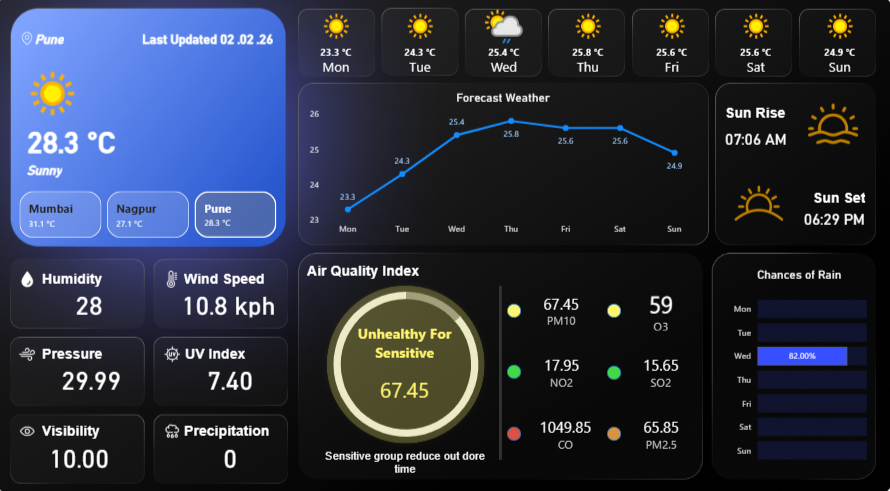

Layout of this report page (visuals, bound fields, positions):
{"tool":"powerbi","page":{"name":"Page 1","canvas":[1280,720],"ordinal":0},"visuals":[{"type":"donutChart","title":"O3","fields":{"Y":["Sum(current.current.air_quality.pm10)","_Measures.left_pm10"]},"box":[444.4,398.9,283.3,256.7],"z":0},{"type":"advancedSlicerVisual","fields":{"Values":["Location.location.name"]},"box":[34.5,275.7,376.6,76.3],"z":1000},{"type":"shape","box":[49.2,169.8,152.6,81.2],"z":2000},{"type":"shape","box":[49.5,228.4,224,46.5],"z":3000},{"type":"shape","box":[61.1,42.2,129.5,46.5],"z":4000},{"type":"shape","box":[174.5,42.2,224,46.5],"z":5000},{"type":"image","box":[40.7,46.5,17.5,36.4],"z":6000},{"type":"cardVisual","fields":{"Data":["Min(current.current.condition.icon)"]},"box":[20.7,80,128.5,127],"z":7000},{"type":"image","box":[239.3,610,32.5,23.6],"z":8000},{"type":"image","box":[34,610,32.5,23.6],"z":9000},{"type":"image","box":[32.5,500.7,34,23.6],"z":10000},{"type":"image","box":[237.8,394.3,34,23.6],"z":11000},{"type":"image","box":[34,394.3,32.5,23.6],"z":12000},{"type":"image","box":[239.3,500.7,32.5,23.6],"z":13000},{"type":"shape","box":[70.9,605.5,107.8,32.5],"z":14000},{"type":"shape","box":[70.9,496.2,107.8,32.5],"z":15000},{"type":"shape","box":[273.2,496.2,107.8,32.5],"z":16000},{"type":"shape","box":[70.9,389.9,107.8,32.5],"z":17000},{"type":"shape","box":[271.8,605.5,130,32.5],"z":18000},{"type":"shape","box":[271.8,389.9,132.9,32.5],"z":19000},{"type":"cardVisual","fields":{"Data":["Sum(current.current.humidity)"]},"box":[85.1,405.7,105.1,72.5],"z":20000},{"type":"cardVisual","fields":{"Data":["Sum(current.current.pressure_in)"]},"box":[32,512,216,72],"z":21000},{"type":"cardVisual","fields":{"Data":["Sum(current.current.vis_km)"]},"box":[46,622,156,72],"z":22000},{"type":"cardVisual","fields":{"Data":["Sum(current.current.uv)"]},"box":[260,512,156,72],"z":23000},{"type":"cardVisual","fields":{"Data":["_Measures.Wind Speed"]},"box":[226,406,220,72],"z":24000},{"type":"cardVisual","fields":{"Data":["Sum(current.current.precip_mm)"]},"box":[260,622,156,72],"z":25000},{"type":"advancedSlicerVisual","fields":{"Values":["forcast_day.Day Name"]},"box":[428,18,834,116],"z":26000},{"type":"lineChart","title":"Forecast Weather","fields":{"Category":["forcast_day.Day Name"],"Y":["Sum(forcast_day.forecast.forecastday.day.avgtemp_c)"]},"box":[446.5,134,555.9,216.6],"z":27000},{"type":"shape","box":[1038.5,154.2,132.4,32],"z":28000},{"type":"shape","box":[1105.5,274.9,132.4,32],"z":29000},{"type":"shape","box":[1038.5,176,145.5,61.1],"z":30000},{"type":"shape","box":[1090.9,289.5,145.5,61.1],"z":31000},{"type":"image","box":[1146.2,149.8,91.6,71.3],"z":32000},{"type":"image","box":[1038.5,251.6,96,91.6],"z":33000},{"type":"hundredPercentStackedBarChart","title":"Chances of Rain","fields":{"Category":["forcast_day.Day_Name"],"Y":["Sum(forcast_day.forecast.forecastday.day.daily_chance_of_rain)","_Measures.Left valu Rain"]},"box":[1037.9,389.4,201.1,291.6],"z":34000},{"type":"cardVisual","title":"O3","fields":{"Data":["Sum(current.current.air_quality.o3)"]},"box":[881.1,410,133.3,81.1],"z":35000},{"type":"cardVisual","title":"O3","fields":{"Data":["Sum(current.current.air_quality.so2)"]},"box":[881.1,495.6,133.3,82.2],"z":36000},{"type":"cardVisual","title":"O3","fields":{"Data":["Sum(current.current.air_quality.pm10)"]},"box":[740,410,134.4,81.1],"z":37000},{"type":"cardVisual","title":"O3","fields":{"Data":["Sum(current.current.air_quality.co)"]},"box":[740,584.4,146,82.2],"z":38000},{"type":"cardVisual","title":"O3","fields":{"Data":["Sum(current.current.air_quality.no2)"]},"box":[740,495.6,135.6,82.2],"z":39000},{"type":"shape","box":[446.7,378.3,175,33.3],"z":40000},{"type":"cardVisual","title":"O3","fields":{"Data":["Sum(current.current.air_quality.pm2_5)"]},"box":[881.1,584.4,134.4,82.2],"z":41000},{"type":"shape","box":[730,441.1,20,20],"z":42000},{"type":"shape","box":[871.1,615.6,20,20],"z":43000},{"type":"shape","box":[871.1,528.9,20,20],"z":44000},{"type":"shape","box":[871.1,441.1,20,20],"z":45000},{"type":"shape","box":[466.1,407.2,240,240],"z":46000},{"type":"shape","box":[730,615.6,20,20],"z":47000},{"type":"shape","box":[730,526.7,20,20],"z":48000},{"type":"cardVisual","fields":{"Data":["Sum(current.current.air_quality.pm10)"]},"box":[517.8,467.2,135,133.3],"z":49000},{"type":"shape","box":[456.7,638.3,258.3,55],"z":50000},{"type":"shape","box":[570,415,301.7,246.7],"z":51000}]}

Visuals, with their boxes in screenshot pixels (x1, y1, x2, y2), scaled from the page's 1280x720 canvas onto the 890x491 screenshot:
"O3" donutChart: crop(309, 272, 506, 447)
advancedSlicerVisual - Location.location.name: crop(24, 188, 286, 240)
shape: crop(34, 116, 140, 171)
shape: crop(34, 156, 190, 187)
shape: crop(42, 29, 133, 60)
shape: crop(121, 29, 277, 60)
image: crop(28, 32, 40, 57)
cardVisual - Min(current.current.condition.icon): crop(14, 55, 104, 141)
image: crop(166, 416, 189, 432)
image: crop(24, 416, 46, 432)
image: crop(23, 341, 46, 358)
image: crop(165, 269, 189, 285)
image: crop(24, 269, 46, 285)
image: crop(166, 341, 189, 358)
shape: crop(49, 413, 124, 435)
shape: crop(49, 338, 124, 361)
shape: crop(190, 338, 265, 361)
shape: crop(49, 266, 124, 288)
shape: crop(189, 413, 279, 435)
shape: crop(189, 266, 281, 288)
cardVisual - Sum(current.current.humidity): crop(59, 277, 132, 326)
cardVisual - Sum(current.current.pressure_in): crop(22, 349, 172, 398)
cardVisual - Sum(current.current.vis_km): crop(32, 424, 140, 473)
cardVisual - Sum(current.current.uv): crop(181, 349, 289, 398)
cardVisual - _Measures.Wind Speed: crop(157, 277, 310, 326)
cardVisual - Sum(current.current.precip_mm): crop(181, 424, 289, 473)
advancedSlicerVisual - forcast_day.Day Name: crop(298, 12, 877, 91)
"Forecast Weather" lineChart: crop(310, 91, 697, 239)
shape: crop(722, 105, 814, 127)
shape: crop(769, 187, 861, 209)
shape: crop(722, 120, 823, 162)
shape: crop(759, 197, 860, 239)
image: crop(797, 102, 861, 151)
image: crop(722, 172, 789, 234)
"Chances of Rain" hundredPercentStackedBarChart: crop(722, 266, 861, 464)
"O3" cardVisual: crop(613, 280, 705, 335)
"O3" cardVisual: crop(613, 338, 705, 394)
"O3" cardVisual: crop(515, 280, 608, 335)
"O3" cardVisual: crop(515, 399, 616, 455)
"O3" cardVisual: crop(515, 338, 609, 394)
shape: crop(311, 258, 432, 281)
"O3" cardVisual: crop(613, 399, 706, 455)
shape: crop(508, 301, 521, 314)
shape: crop(606, 420, 620, 433)
shape: crop(606, 361, 620, 374)
shape: crop(606, 301, 620, 314)
shape: crop(324, 278, 491, 441)
shape: crop(508, 420, 521, 433)
shape: crop(508, 359, 521, 373)
cardVisual - Sum(current.current.air_quality.pm10): crop(360, 319, 454, 410)
shape: crop(318, 435, 497, 473)
shape: crop(396, 283, 606, 451)
